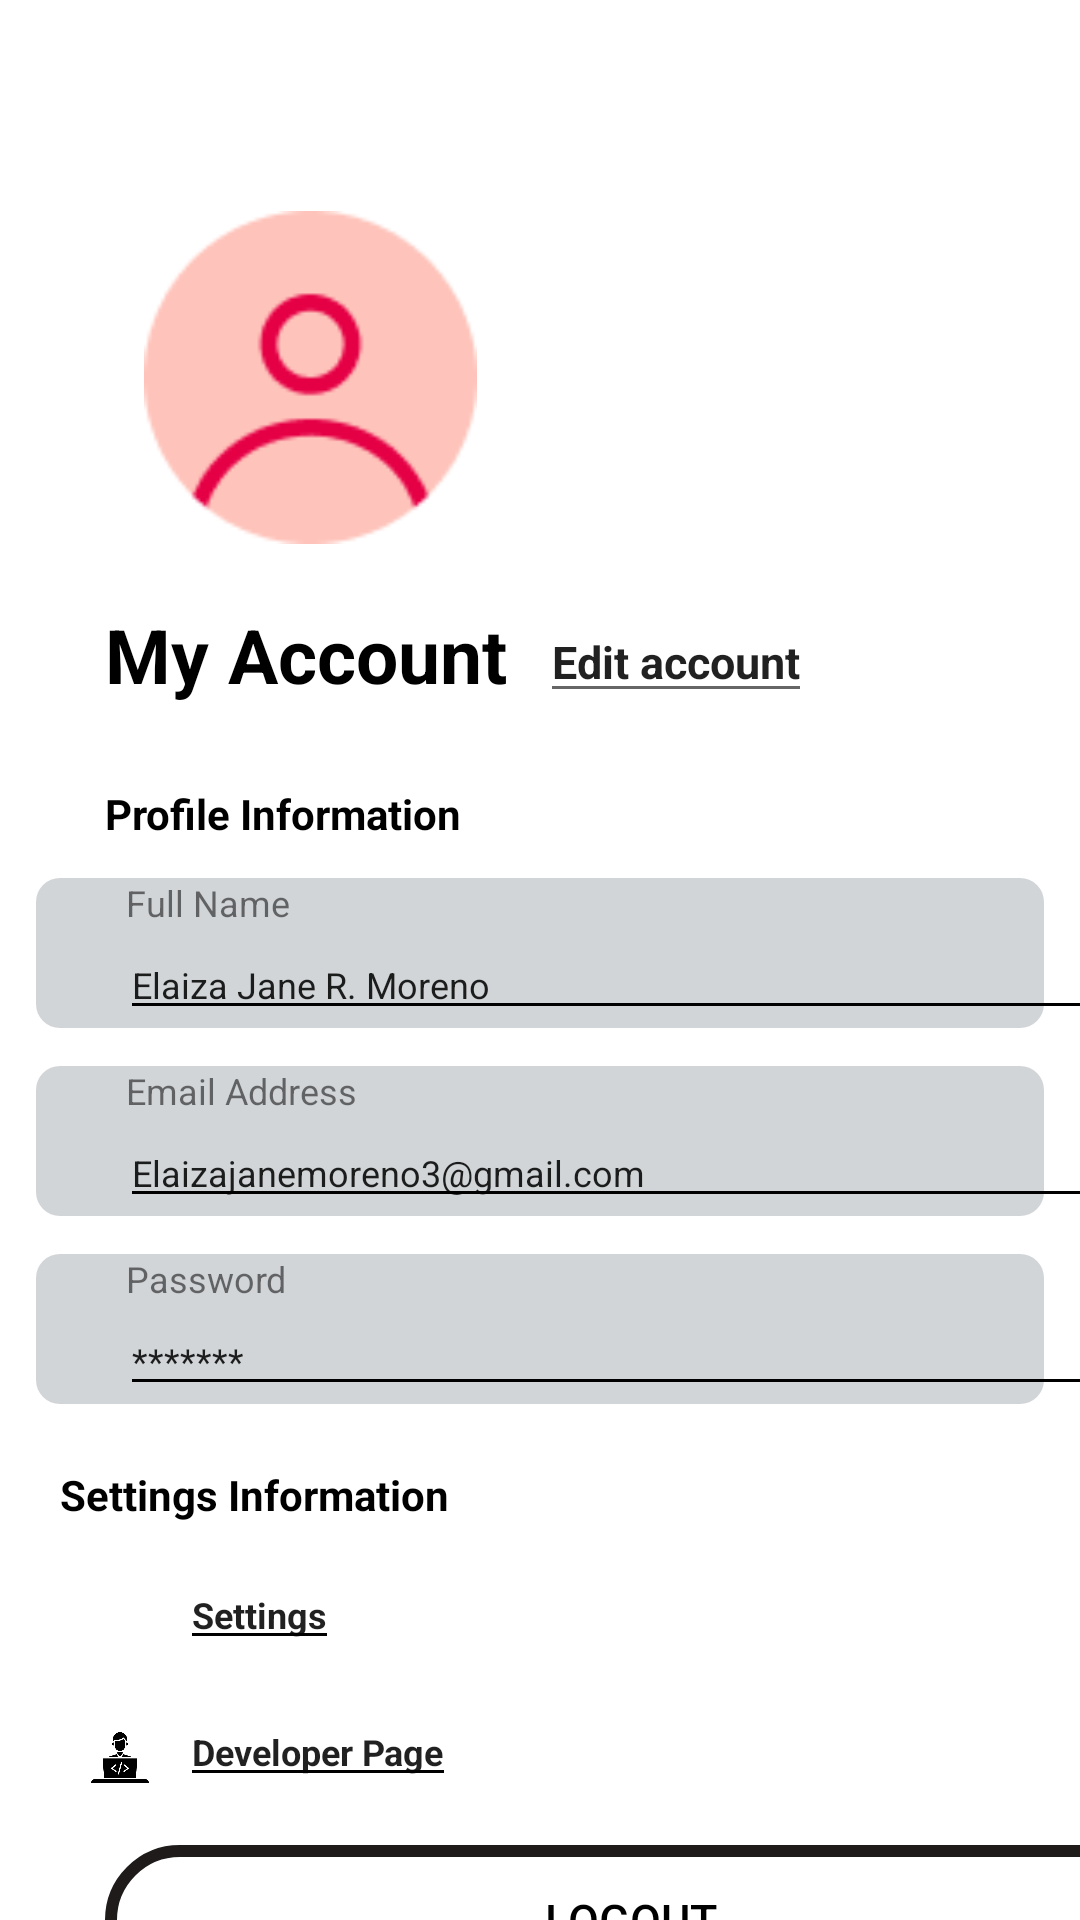

Screen size 1080w x 1920h. Icon name, then its center in pixels as (x,y):
developers: (120,1757)
